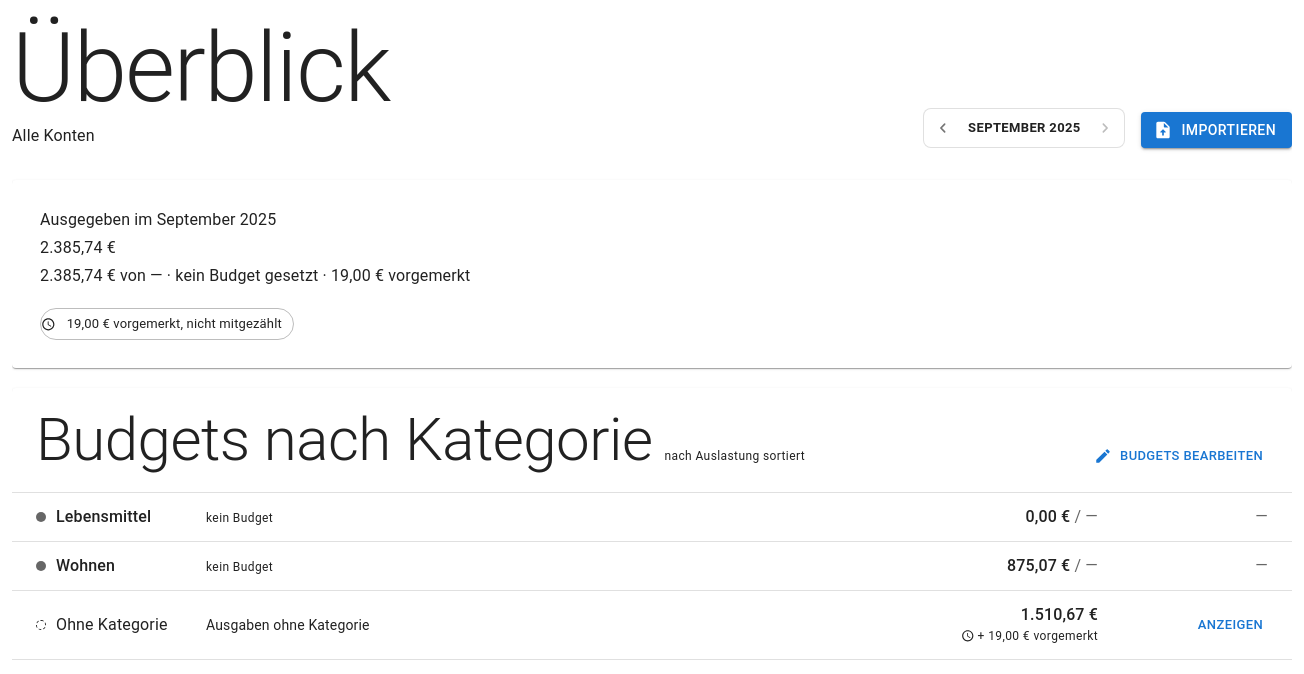
Test: OverviewPage › re-derives the month from rows already loaded
Expected: the button "Budgets bearbeiten" is enabled, left=1091, top=441, right=1268, bottom=472
Click the button with aria-label "Monat wählen": point(1024, 128) left=958, top=113, right=1090, bottom=144
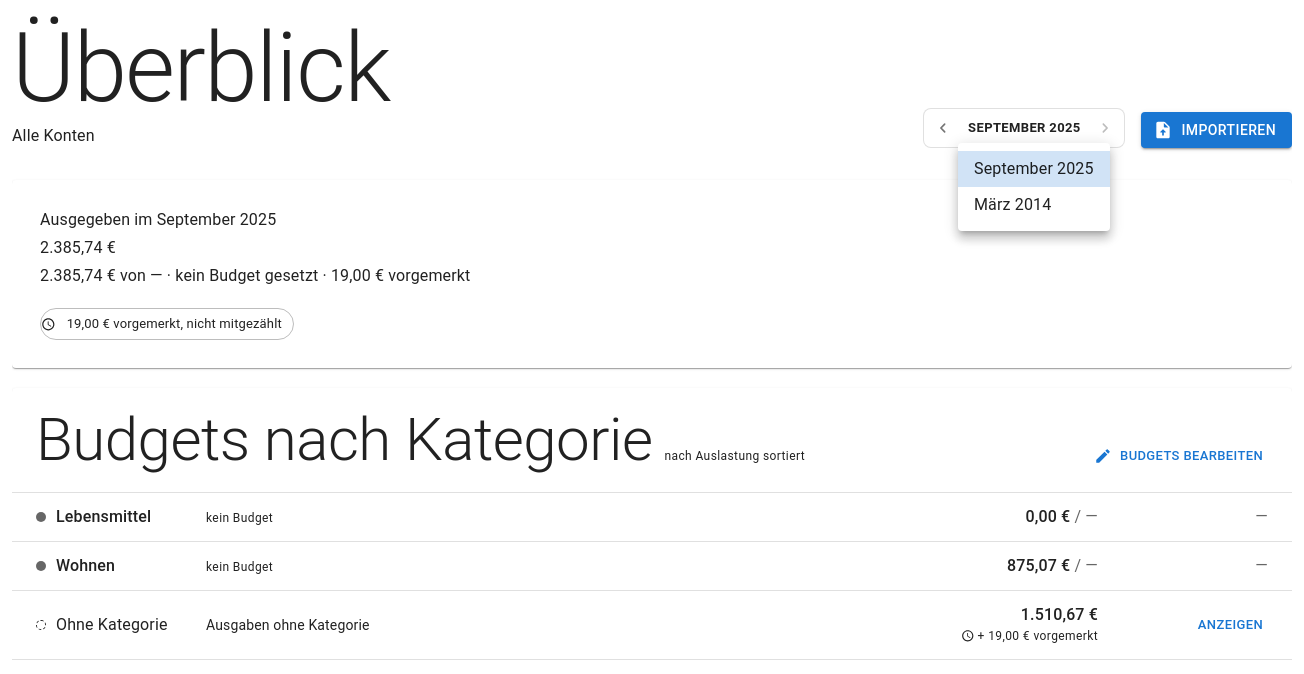
Click the menu item "März 2014": point(1013, 204) left=974, top=195, right=1051, bottom=214
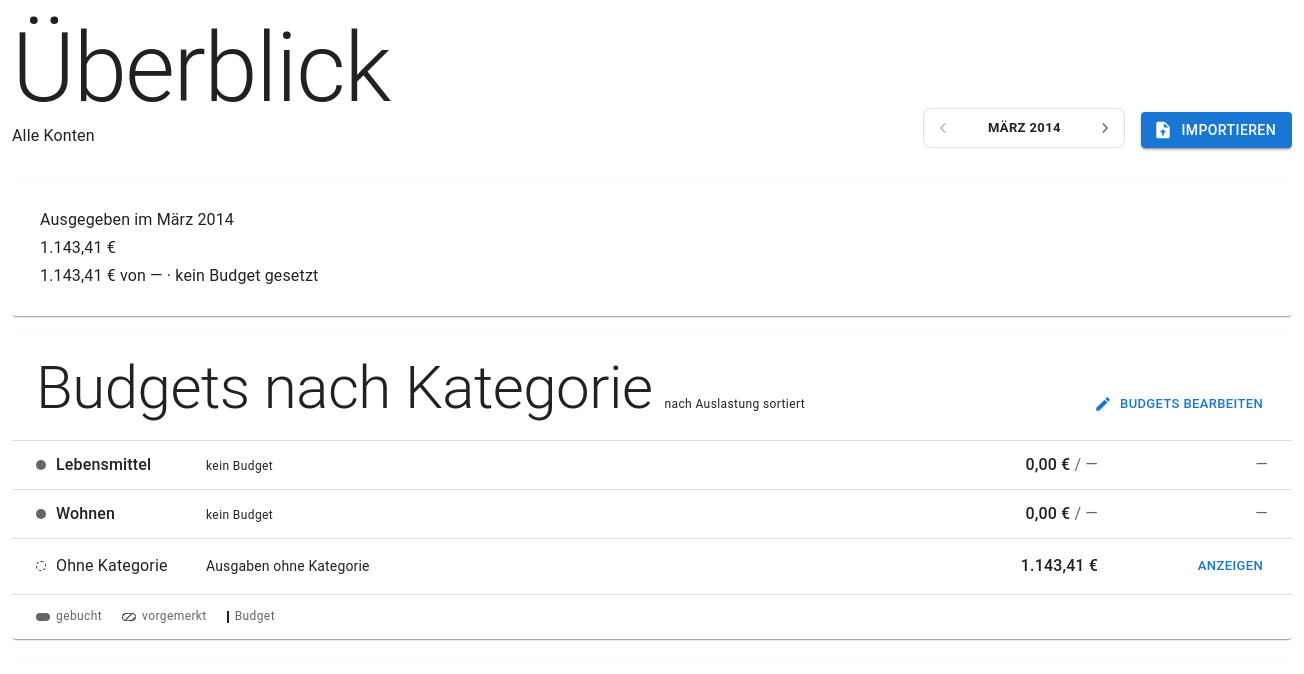
Now the text "1.143,41 € von — · kein Budget gesetzt" is shown, box left=40, top=266, right=318, bottom=285
